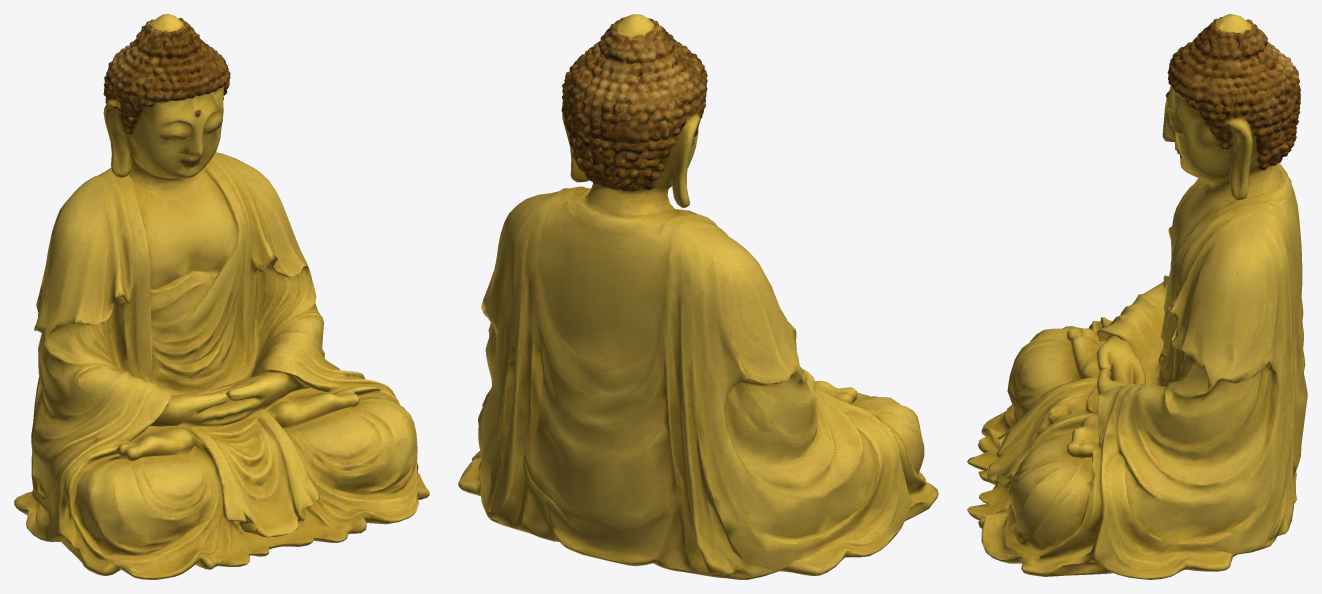
The model's file is trellis2-shakyamuni.glb.
3 renders of one model, left to right at view 1: azimuth 30°, elevation 25°; view 2: azimuth 150°, elevation 25°; view 3: azimuth 270°, elevation 25°, orthographic. The views are drawn at different scales.
Visible parts, largest first — view 1: geometry_0; view 2: geometry_0; view 3: geometry_0.
Part boxes in pixels (x1,y1,x2,y2): geometry_0: [14, 14, 429, 579]; geometry_0: [458, 14, 938, 579]; geometry_0: [967, 14, 1307, 579].
Size of the model in its own units: 0.8087 by 1 by 0.6473.
1 material, 1 textured.
